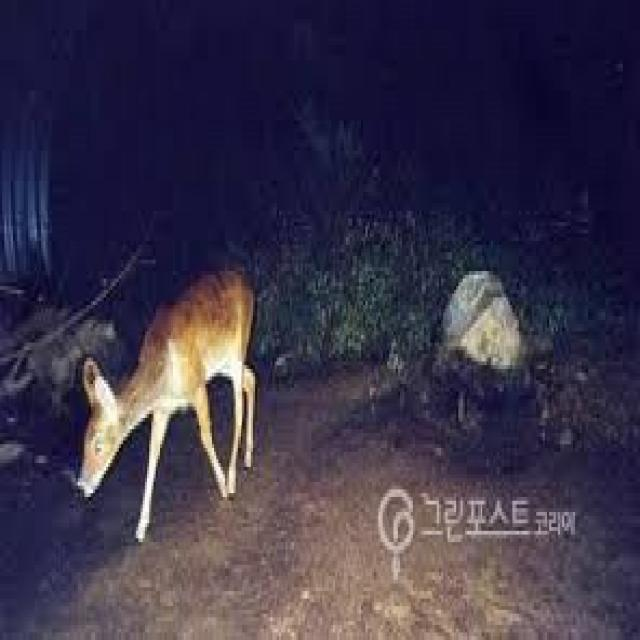elk: (43, 248, 304, 548)
